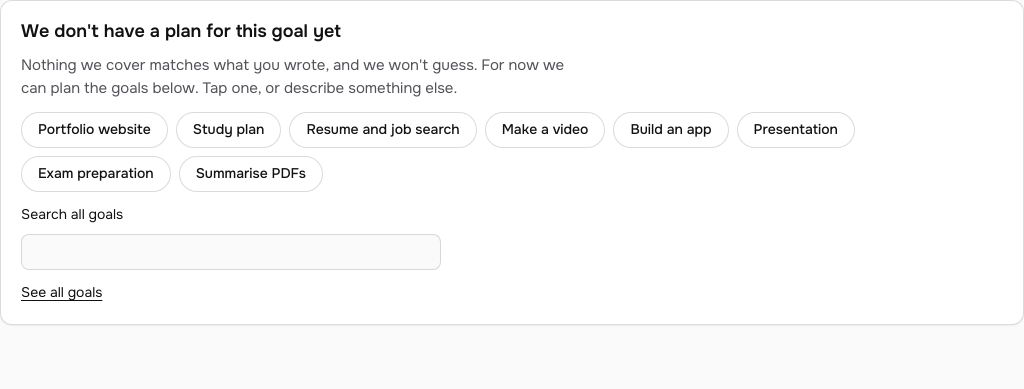
Scenario: NoMatchCard › finds a goal by a word from its keywords
Type "capcut" into the search field labelled "Search all goals" at [231, 252], box [21,234,441,270]
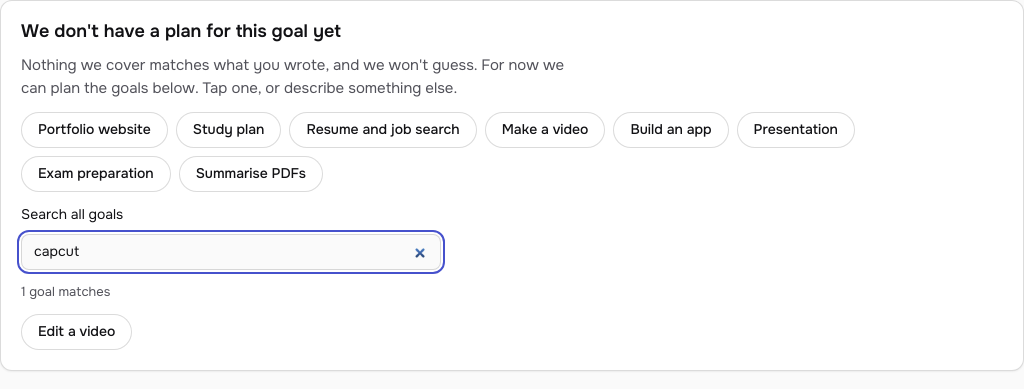
Now the button "Edit a video" is shown, box [21,314,132,350]
